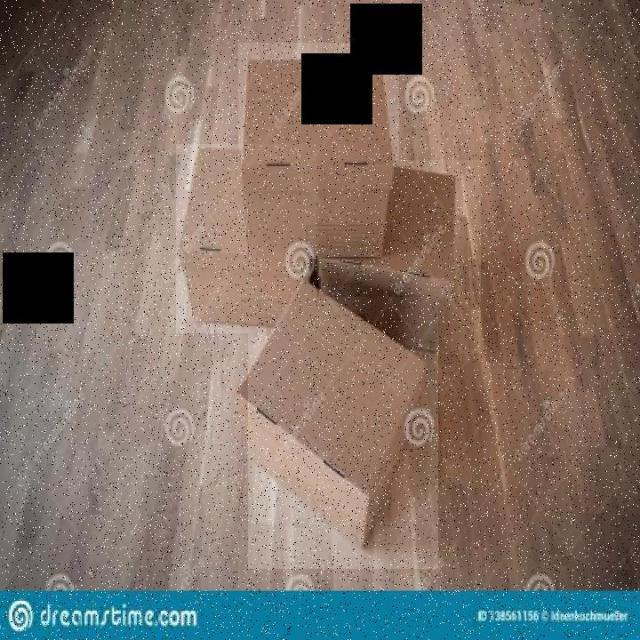box: (248, 297, 438, 569), (238, 43, 399, 265), (319, 160, 481, 354), (176, 144, 316, 333)
